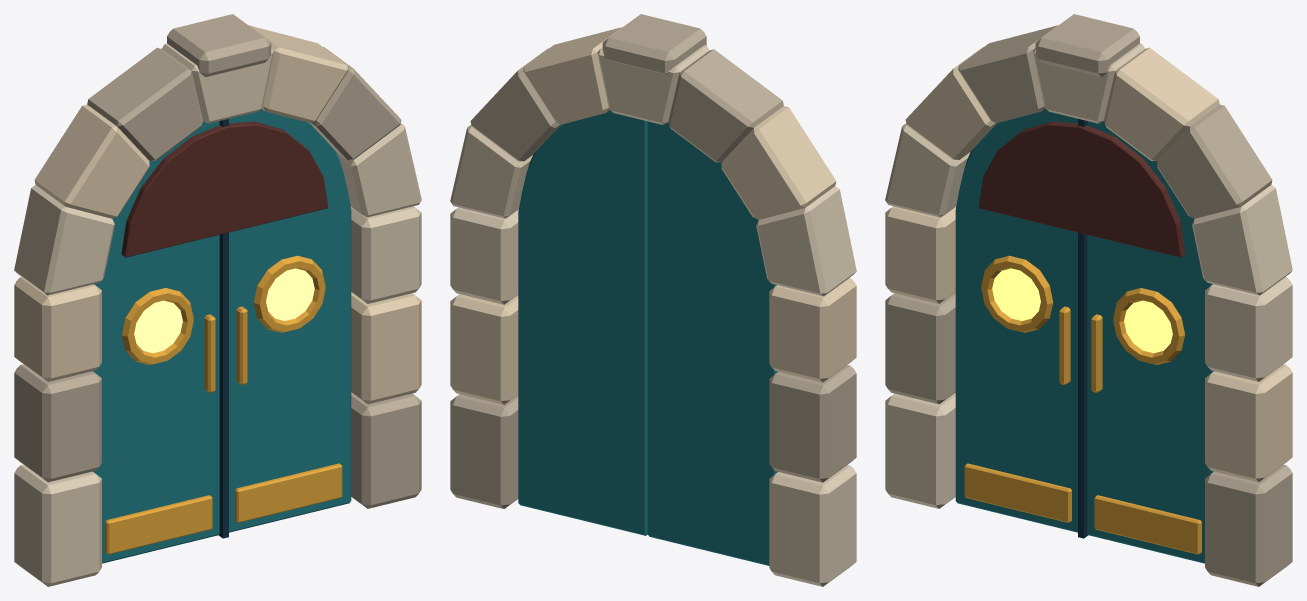
The model's file is screen_doors.glb.
The picture shows the model from 3 angles, left to right: view 1: azimuth 30°, elevation 25°; view 2: azimuth 150°, elevation 25°; view 3: azimuth 330°, elevation 25°; orthographic projection.
Visible parts, largest first — view 1: screen_doors; view 2: screen_doors; view 3: screen_doors.
Part boxes in pixels (left/top/right/bottom): screen_doors: left=14, top=14, right=421, bottom=586; screen_doors: left=450, top=14, right=856, bottom=586; screen_doors: left=885, top=14, right=1292, bottom=586.
Bounding box in the file's own units: 1.9 × 2.39 × 0.34.
